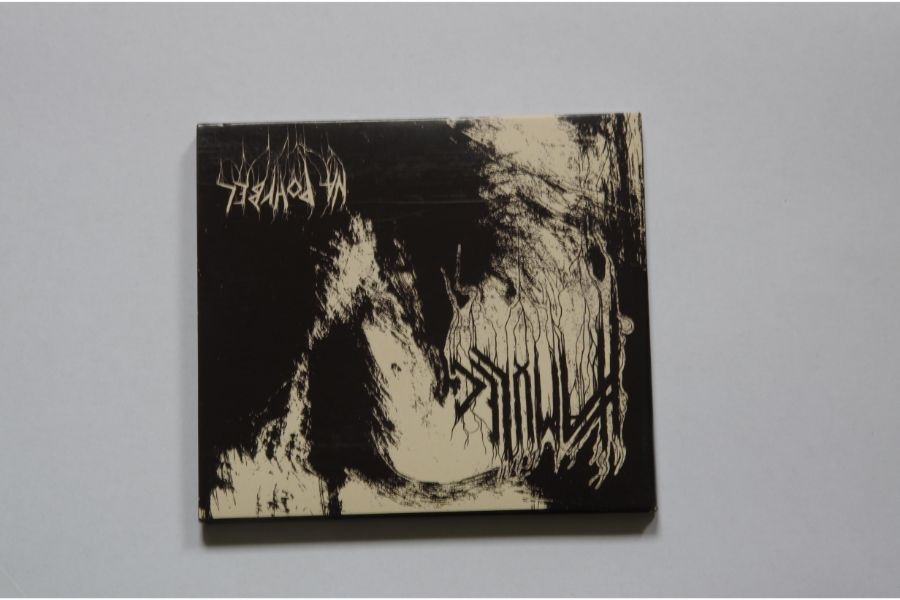album: (187, 106, 663, 521)
